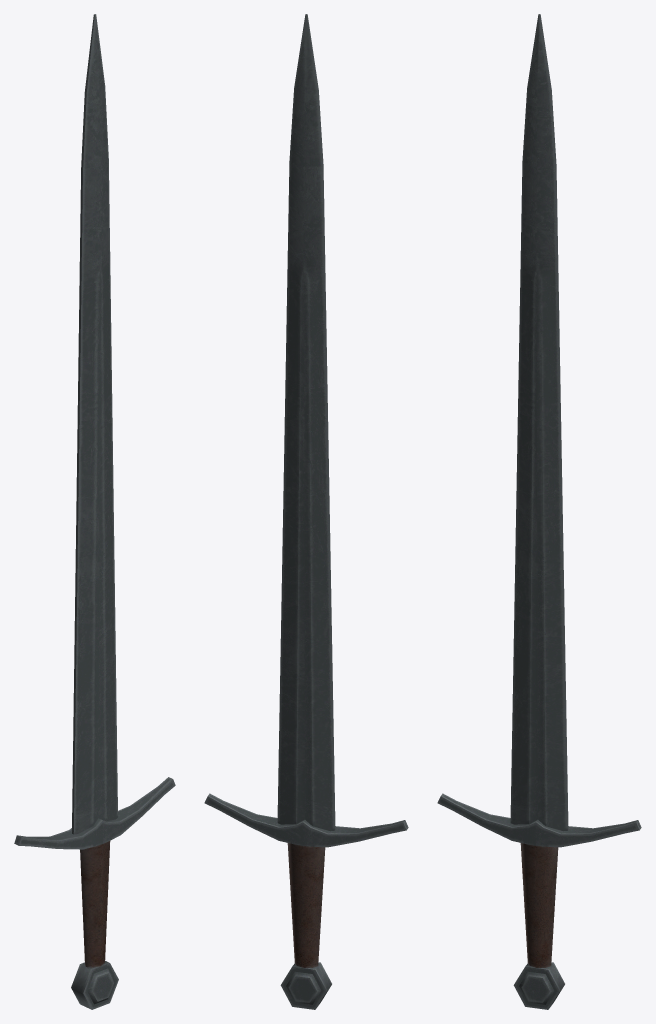
File: longsword.glb
3 views of the same model, side by side, from view 1: azimuth 30°, elevation 25°; view 2: azimuth 150°, elevation 25°; view 3: azimuth 330°, elevation 25° (orthographic).
Parts seen in each view (by area): view 1: longsword; view 2: longsword; view 3: longsword.
Part boxes in pixels (left/top/right/bottom): longsword: left=14, top=14, right=175, bottom=1009; longsword: left=204, top=14, right=408, bottom=1009; longsword: left=437, top=14, right=641, bottom=1009.
Size of the model in its own units: 0.3762 by 1.97 by 0.0932.
1 material, 1 textured.
